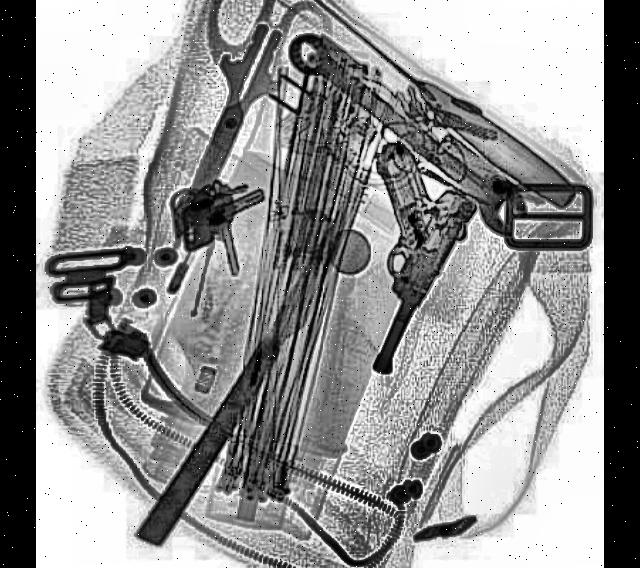Gun: (293, 133, 479, 385)
Knife: (134, 211, 354, 555), (278, 0, 577, 218), (150, 11, 296, 242)
Wrench: (280, 16, 536, 250)
